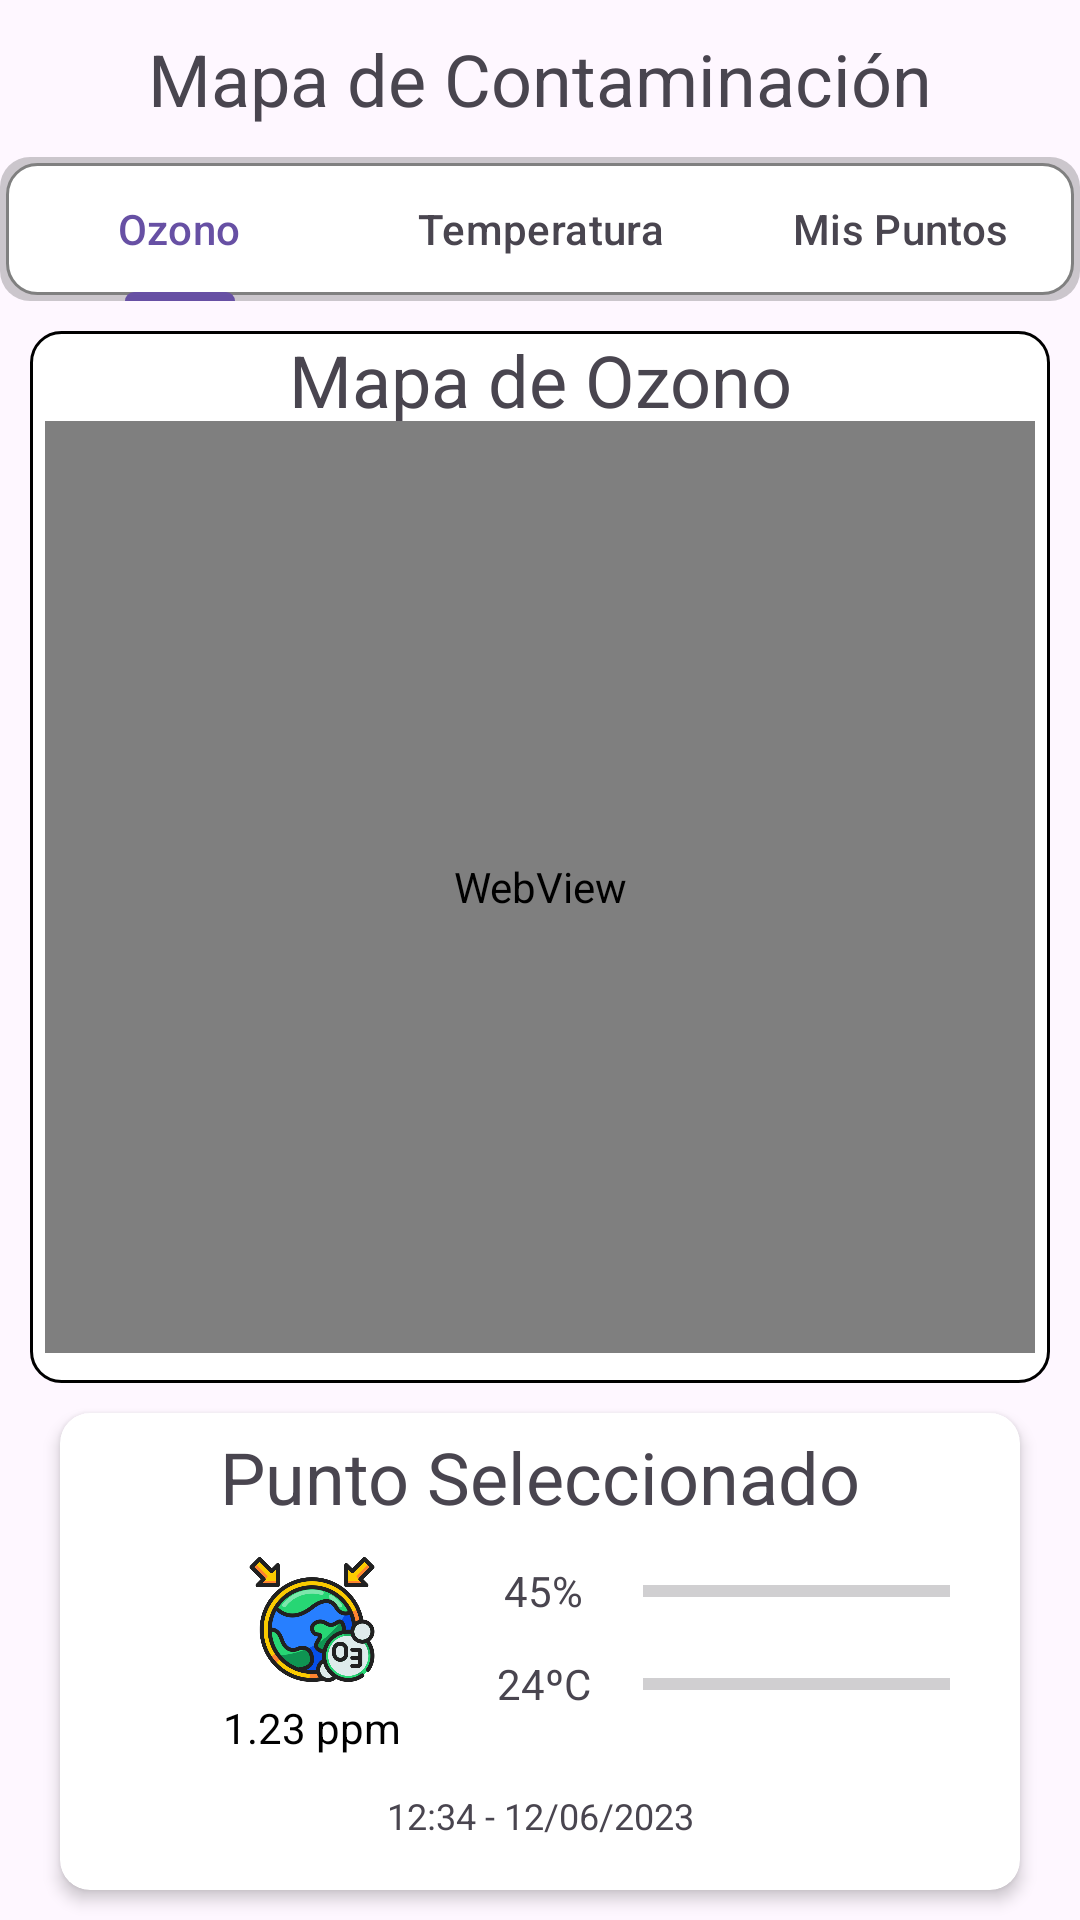

Icons on this 1080×1920 Android screen, each with its box as box=[x1, y1, x2, y2]:
ozono: box=[249, 1557, 375, 1682]
